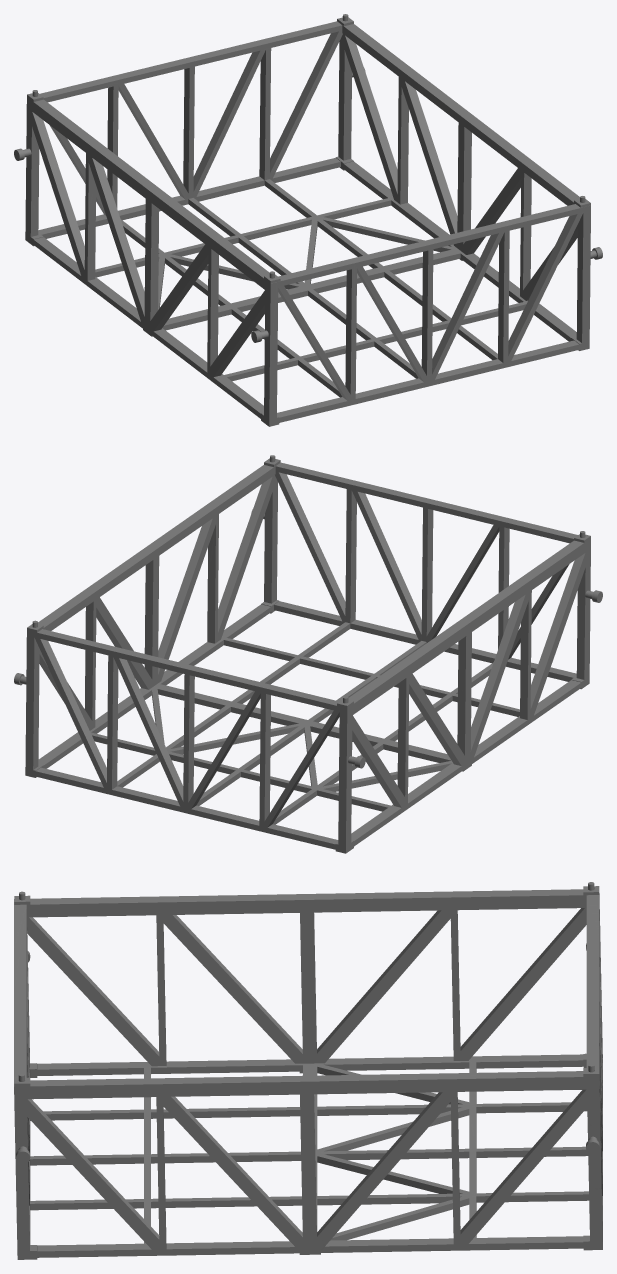
Rendered from 3dmodel.gltf.
3 views of the same model, one above another, from view 1: azimuth 30°, elevation 25°; view 2: azimuth 150°, elevation 25°; view 3: azimuth 270°, elevation 25° (orthographic). The views are drawn at different scales.
Parts seen in each view (by area): view 1: node_id3; view 2: node_id3; view 3: node_id3.
Boxes of the visible parts, left/top/right/bottom form: node_id3: left=14, top=14, right=602, bottom=426; node_id3: left=14, top=455, right=602, bottom=853; node_id3: left=14, top=882, right=602, bottom=1259.
Size of the model in its own units: 0.4193 by 0.1851 by 0.515.
Materials: 1 (1 with a texture image).
